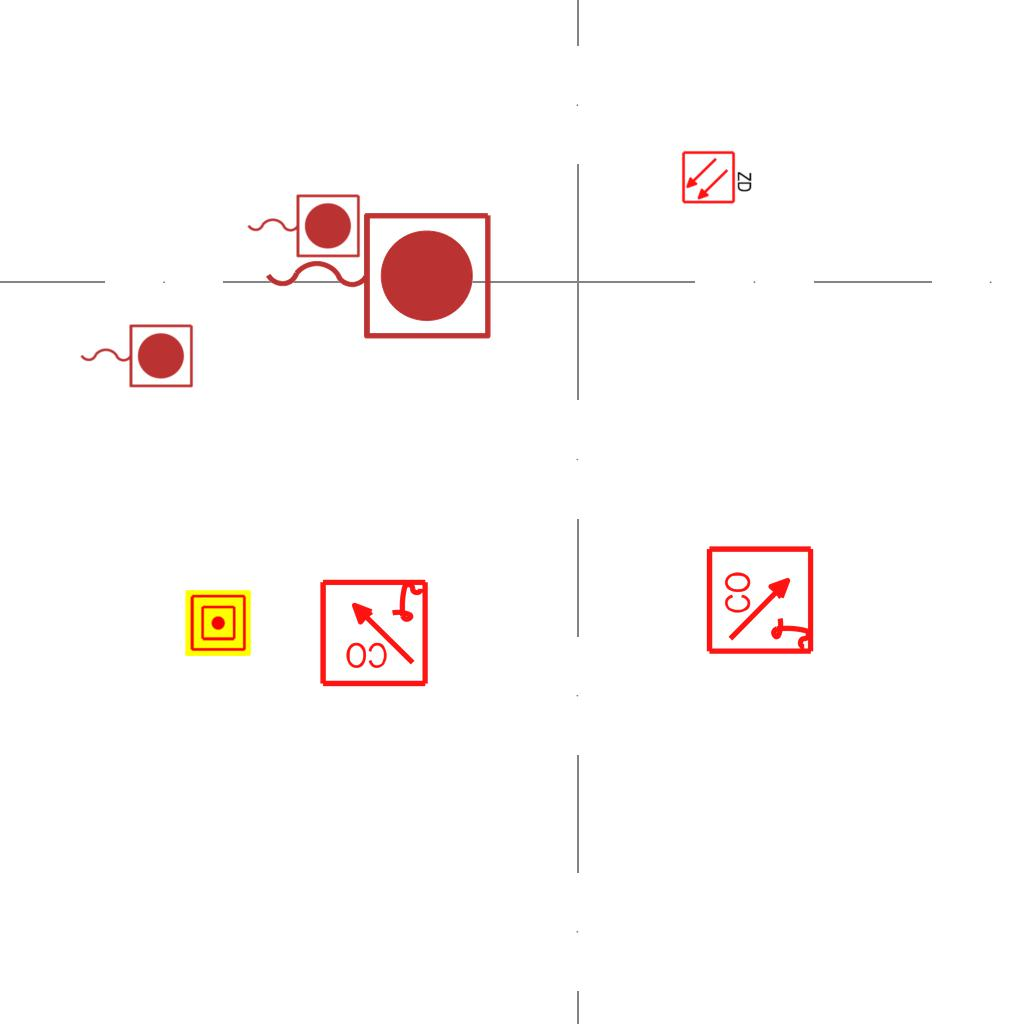NAM-Nichtautomatischer_Melder: (185, 590, 251, 656)
ROA_Rauchmelder_optisch_mit_Signalgeber_(Sockelsirene): (705, 543, 818, 656), (317, 575, 430, 688)
ZD_Melder_in_Zwischendecke_mit_Revisionsoeffnung_mind_40_x_40_cm: (681, 148, 755, 205)
Zugtaster: (255, 202, 499, 346), (75, 319, 197, 391), (242, 189, 364, 261)
